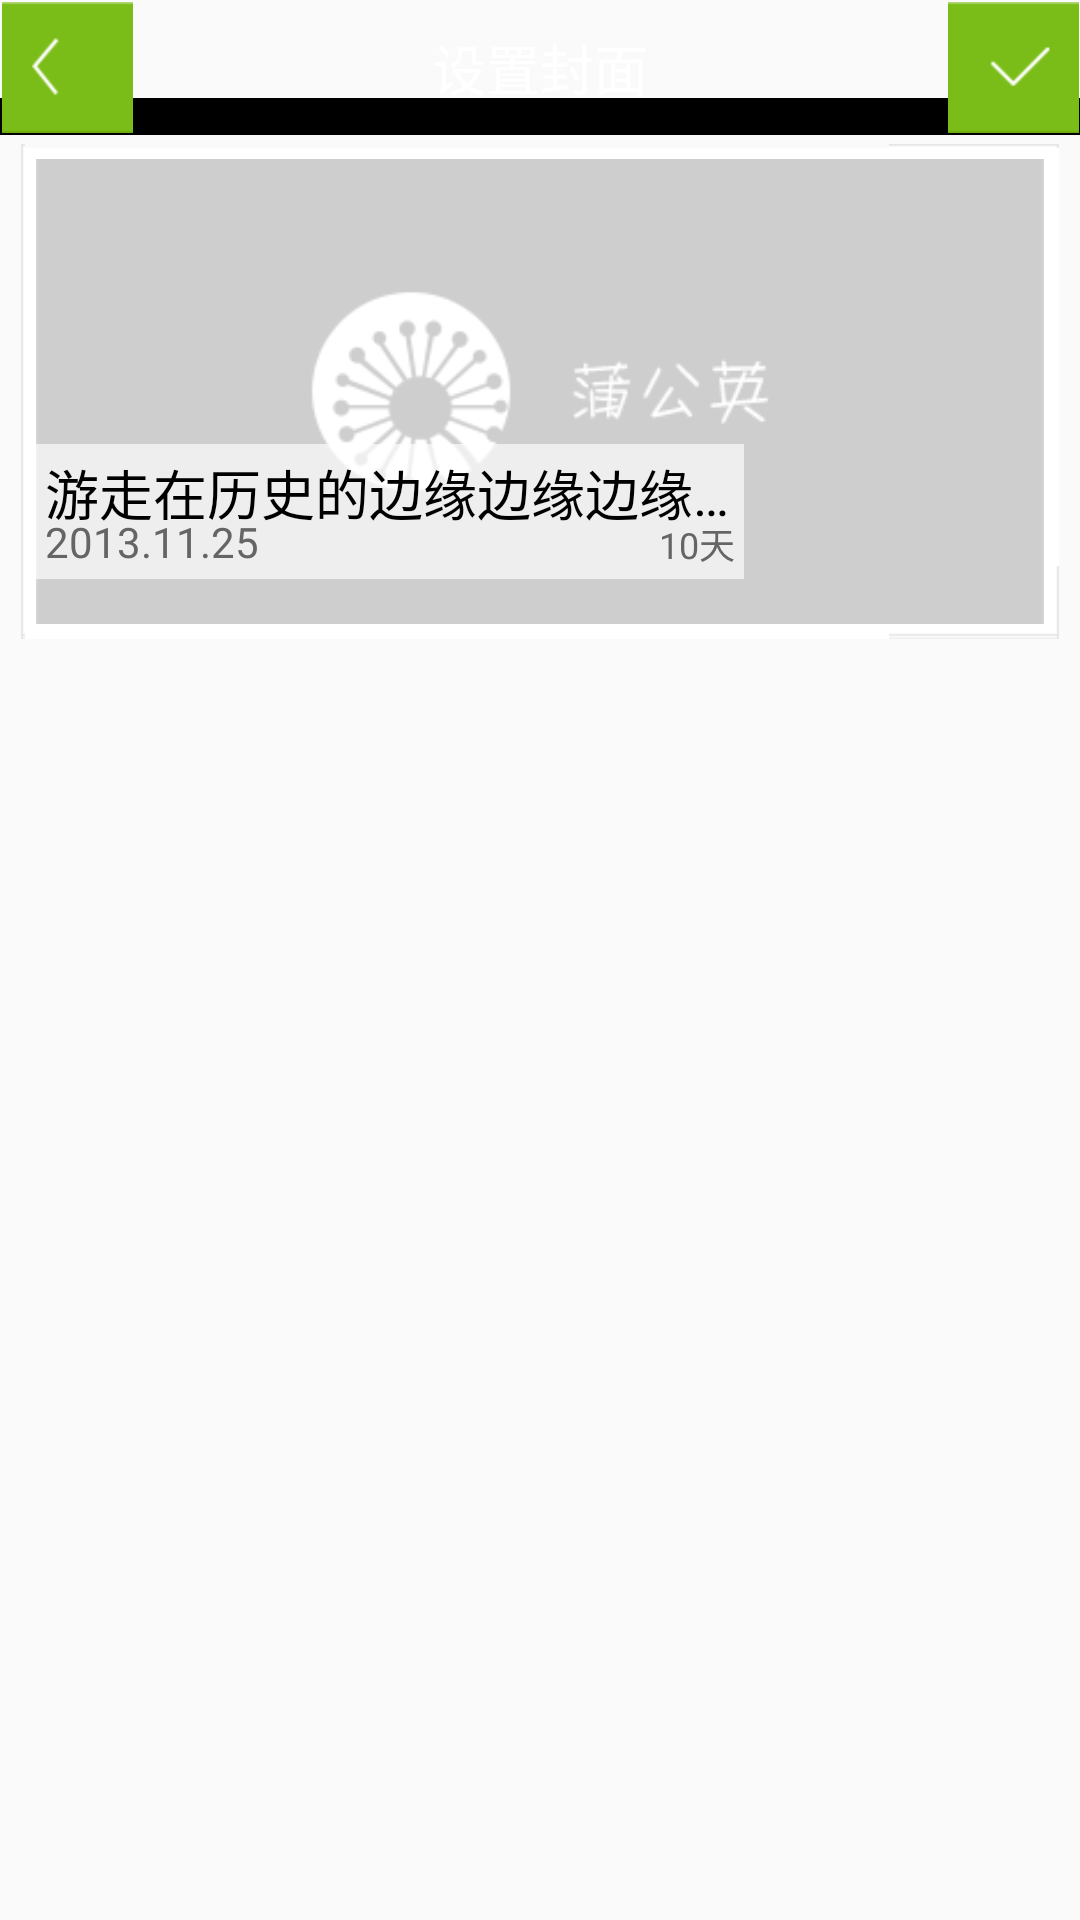

Icons on this 1080 x 1920 Android screen, each with the point to tap as [x,y]:
home back: [84,67]
